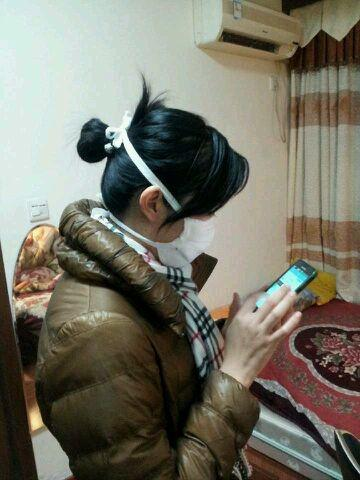OK: (132, 178, 222, 271)
